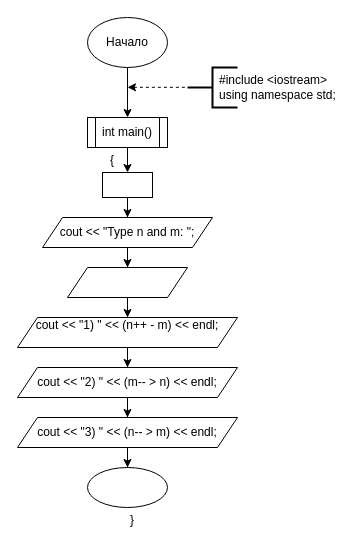
Some shapes in this 355 by 550 pixel diagram are drawn without their labels. Here are the shapes that lost their labels. From the top down, the box of each, then its label:
(102, 172, 152, 198): int n, m;
(66, 266, 188, 298): cin >> n >> m;
(86, 466, 168, 508): return 0;
